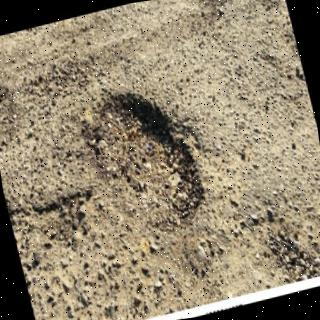pothole: (97, 97, 207, 229)
